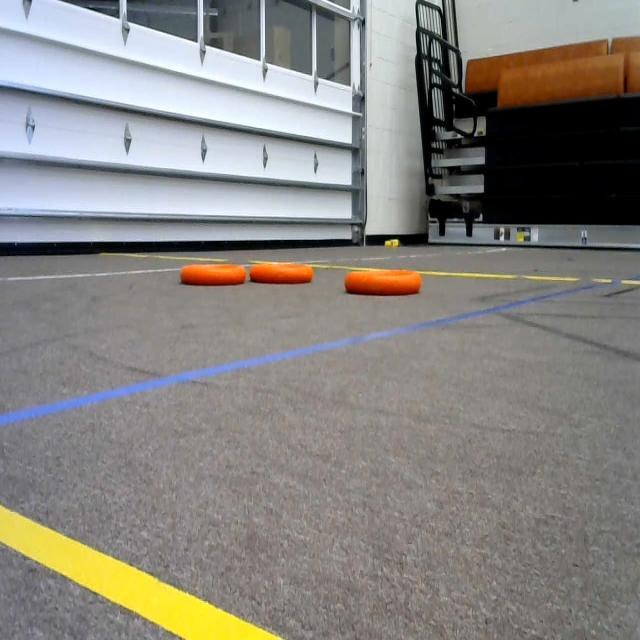note: (342, 258, 428, 298), (176, 246, 248, 290), (254, 249, 318, 292)
